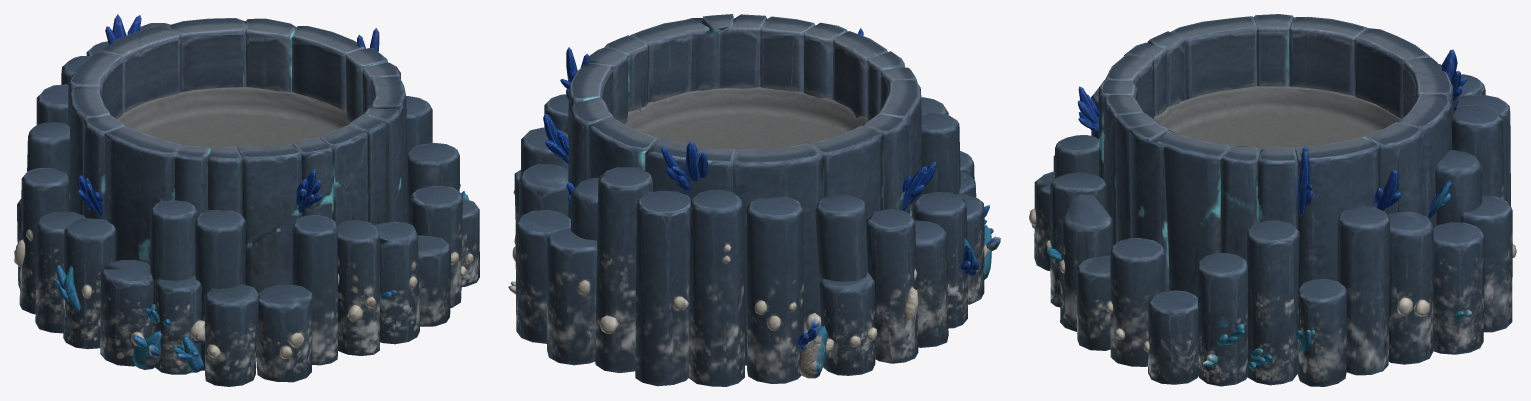
The model's file is mana-well-blue.glb.
3 renders of one model, left to right at view 1: azimuth 30°, elevation 25°; view 2: azimuth 150°, elevation 25°; view 3: azimuth 270°, elevation 25°, orthographic. The views are drawn at different scales.
Size of the model in its own units: 1 by 0.5035 by 0.9962.
Materials: 1 (1 with a texture image).
